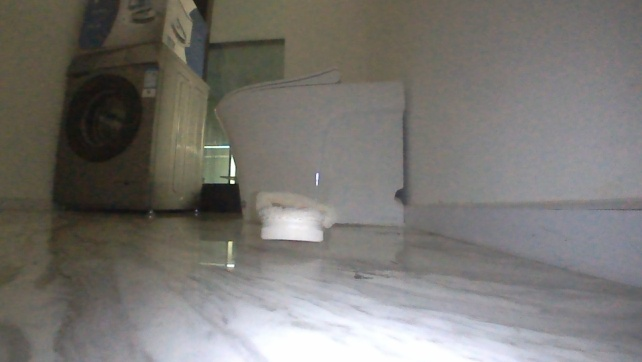shoe: (248, 184, 335, 245)
toilet: (211, 65, 414, 230)
washing_machine: (45, 39, 213, 222)
